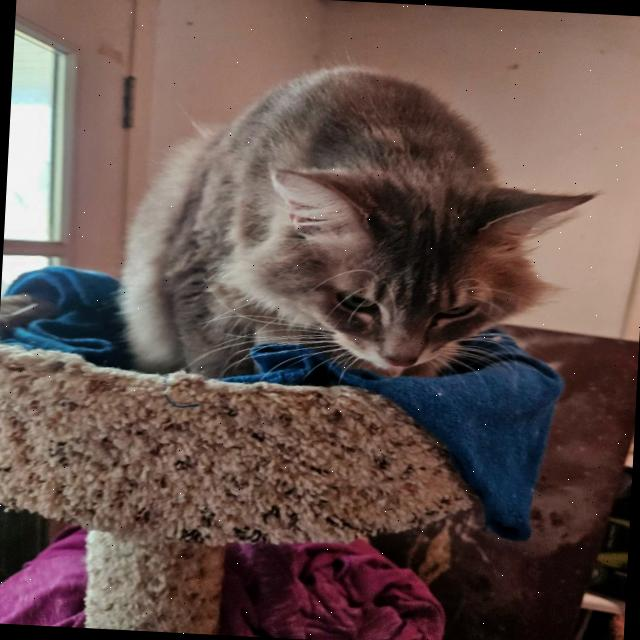maine_coon_cat: (203, 145, 603, 400)
